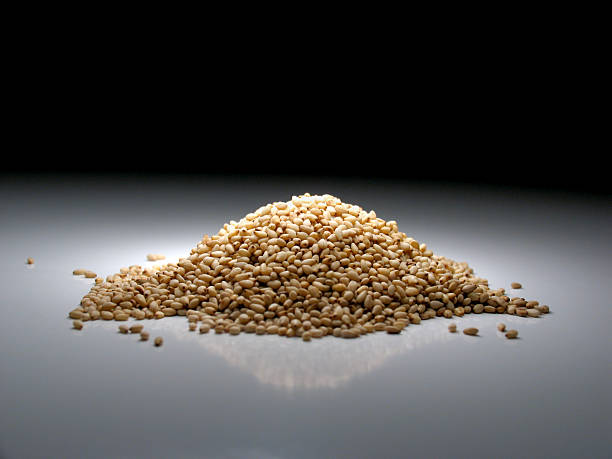seed: (65, 180, 556, 375)
